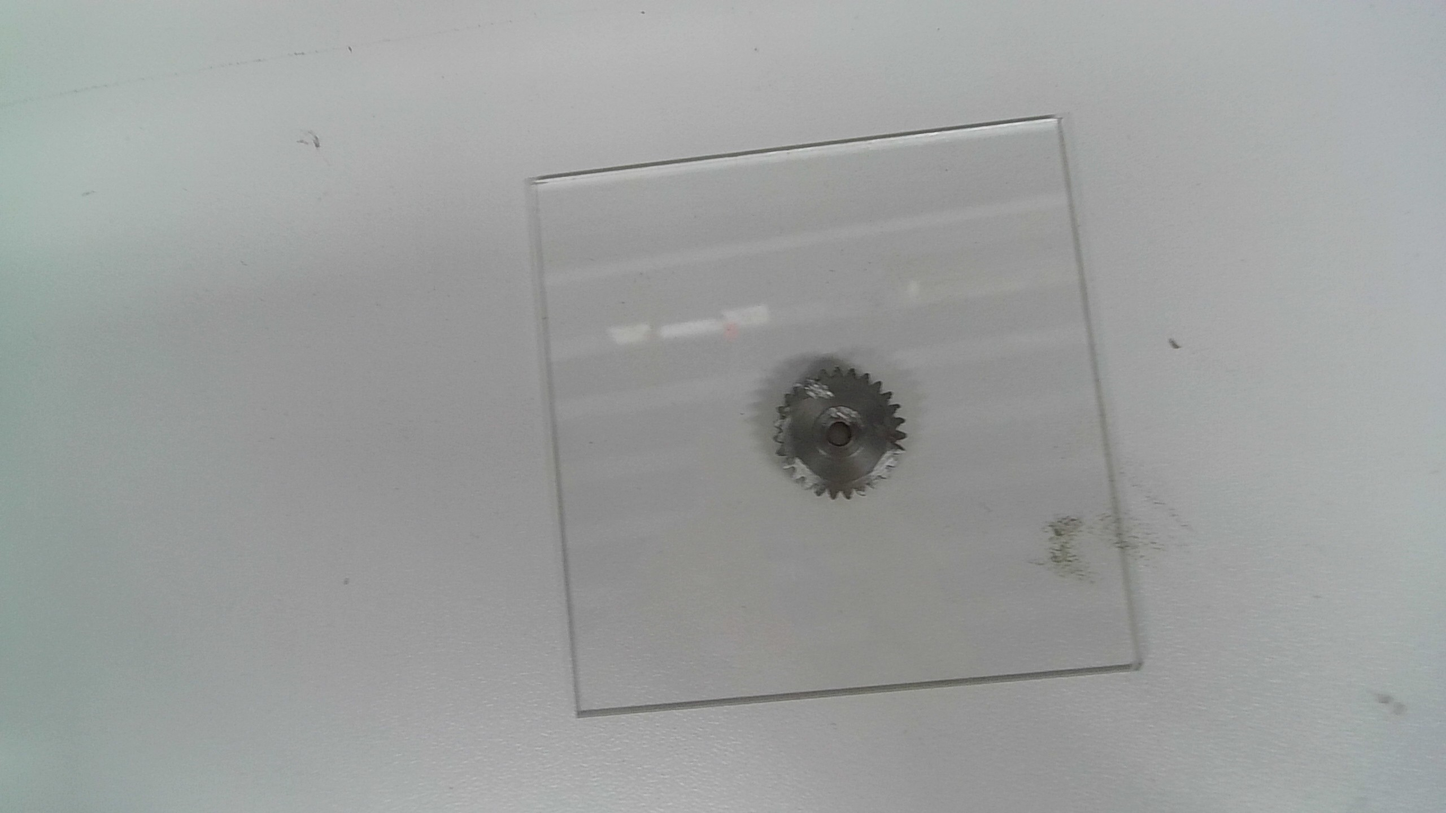gear: (771, 364, 909, 504)
